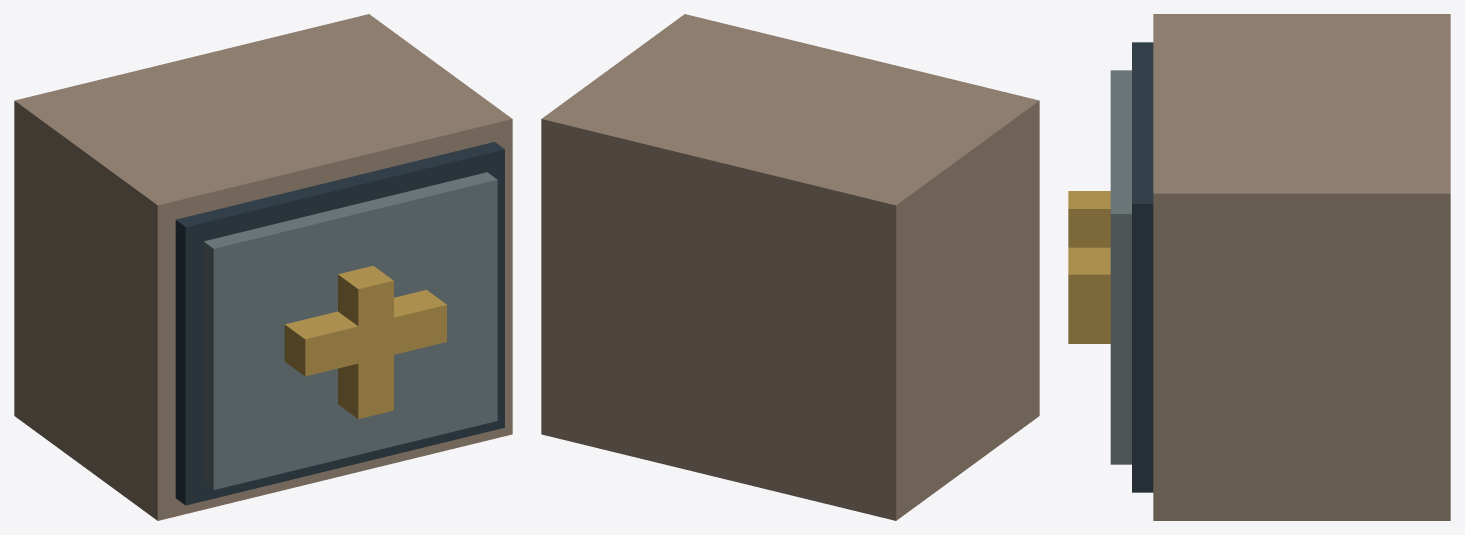
The model's file is legal-08.glb.
The picture shows the model from 3 angles, left to right: view 1: azimuth 30°, elevation 25°; view 2: azimuth 150°, elevation 25°; view 3: azimuth 270°, elevation 25°; orthographic projection. The views are drawn at different scales.
Visible parts, largest first — view 1: Evidence case; view 2: Evidence case; view 3: Evidence case.
Part boxes in pixels (<box>): Evidence case: <box>14,14,512,520</box>; Evidence case: <box>541,14,1039,520</box>; Evidence case: <box>1068,14,1450,520</box>.
Bounding box in the file's own units: 1.6 × 1.36 × 1.44.
